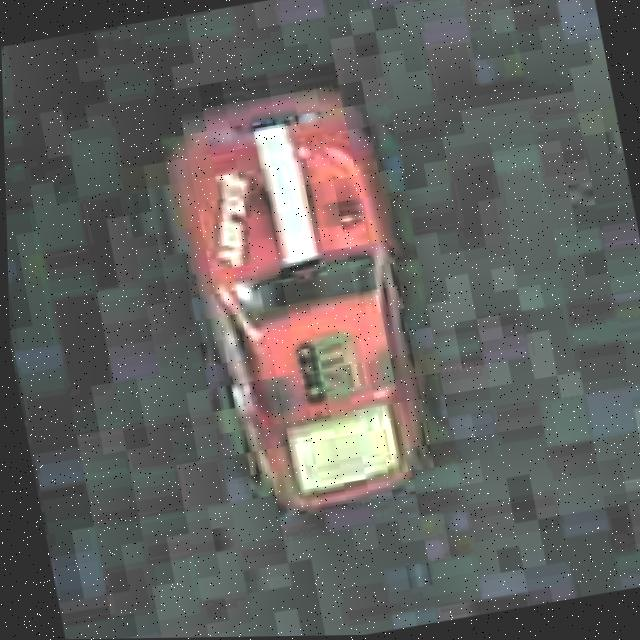car: (150, 68, 452, 538)
